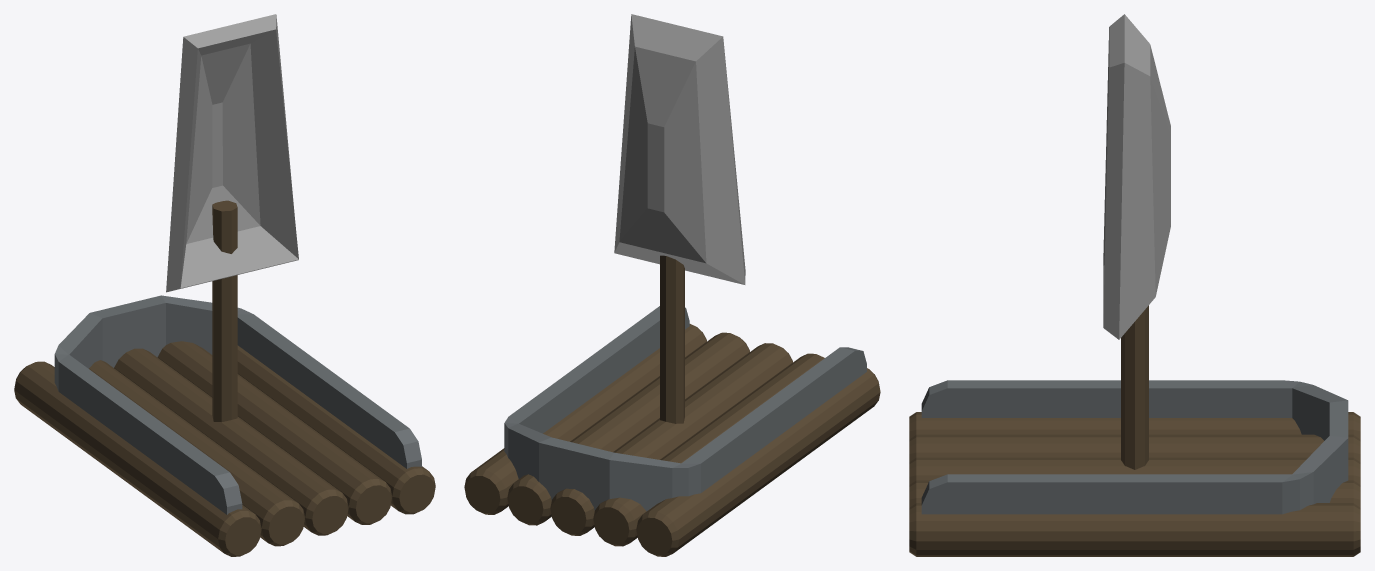
Rendered from raft3.fbx.
3 views of the same model, side by side, from view 1: azimuth 30°, elevation 25°; view 2: azimuth 150°, elevation 25°; view 3: azimuth 270°, elevation 25° (orthographic). The views are drawn at different scales.
Visible parts, largest first — view 1: Raft3, Sail.001; view 2: Raft3, Sail.001; view 3: Raft3, Sail.001.
Part boxes in pixels (left/top/right/bottom): Raft3: left=14, top=295, right=435, bottom=556; Sail.001: left=166, top=14, right=298, bottom=422; Raft3: left=464, top=306, right=880, bottom=556; Sail.001: left=614, top=14, right=745, bottom=423; Raft3: left=909, top=380, right=1360, bottom=556; Sail.001: left=1103, top=14, right=1170, bottom=469.
Bounding box in the file's own units: 250 × 482 × 418.
